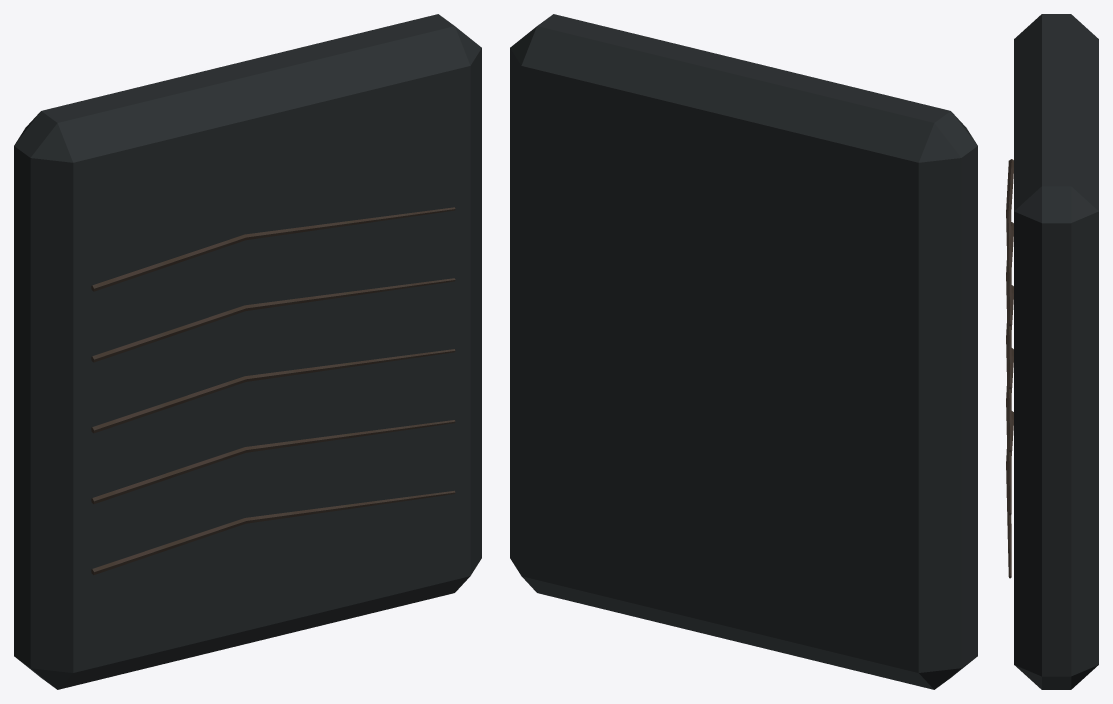
The model's file is PR_BurntTrainingPlaque.glb.
3 views of the same model, side by side, from view 1: azimuth 30°, elevation 25°; view 2: azimuth 150°, elevation 25°; view 3: azimuth 270°, elevation 25° (orthographic). The views are drawn at different scales.
Visible parts, largest first — view 1: PR_BurntTrainingPlaque; view 2: PR_BurntTrainingPlaque; view 3: PR_BurntTrainingPlaque.
Boxes of the visible parts, x1,y1,x2,y2 form: PR_BurntTrainingPlaque: (14, 14, 481, 689); PR_BurntTrainingPlaque: (510, 14, 977, 689); PR_BurntTrainingPlaque: (1006, 14, 1098, 689).
Size of the model in its own units: 0.3 by 0.36 by 0.0602.
2 materials, 1 textured.
